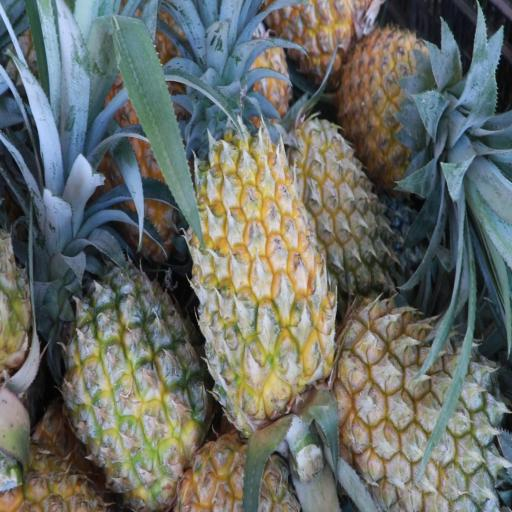Pineapple - v8 v1: (194, 134, 334, 420), (62, 270, 202, 493), (342, 26, 442, 174)
